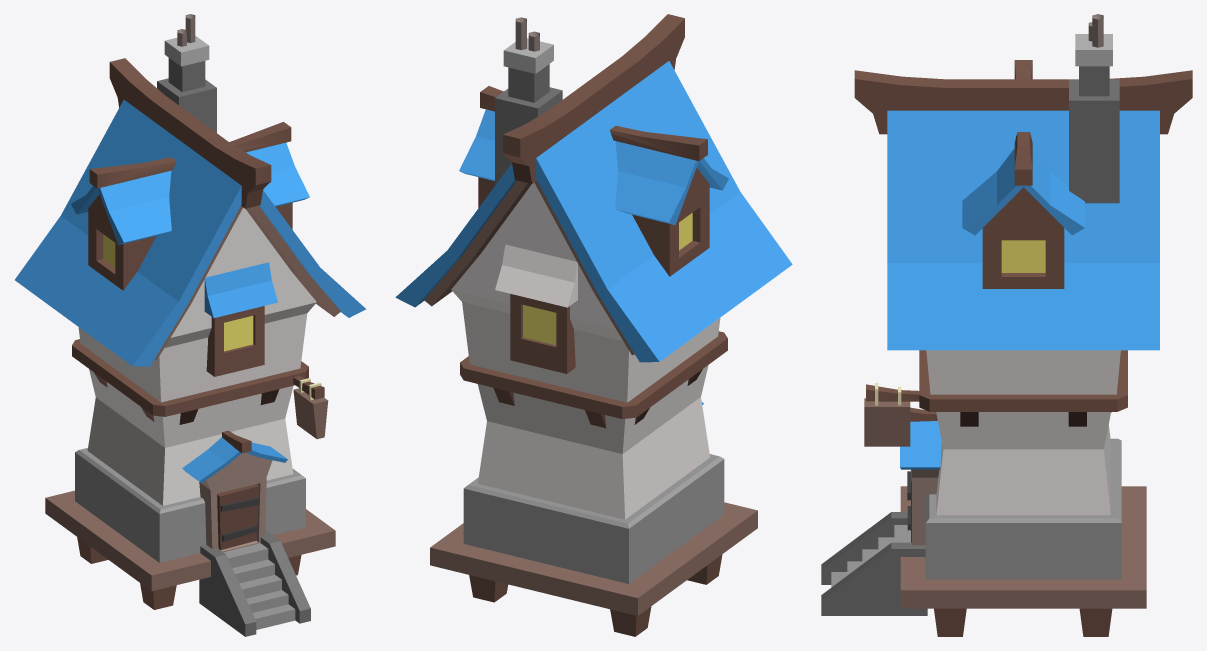
The model's file is building_013.fbx.
The picture shows the model from 3 angles, left to right: view 1: azimuth 30°, elevation 25°; view 2: azimuth 150°, elevation 25°; view 3: azimuth 270°, elevation 25°; orthographic projection. The views are drawn at different scales.
Visible parts, largest first — view 1: building.013; view 2: building.013; view 3: building.013.
Boxes of the visible parts, x1,y1,x2,y2 form: building.013: (15,14,365,636); building.013: (395,14,792,636); building.013: (821,14,1192,636).
Bounding box in the file's own units: 1179 × 2489 × 1399.
Materials: 1 (1 with a texture image).
